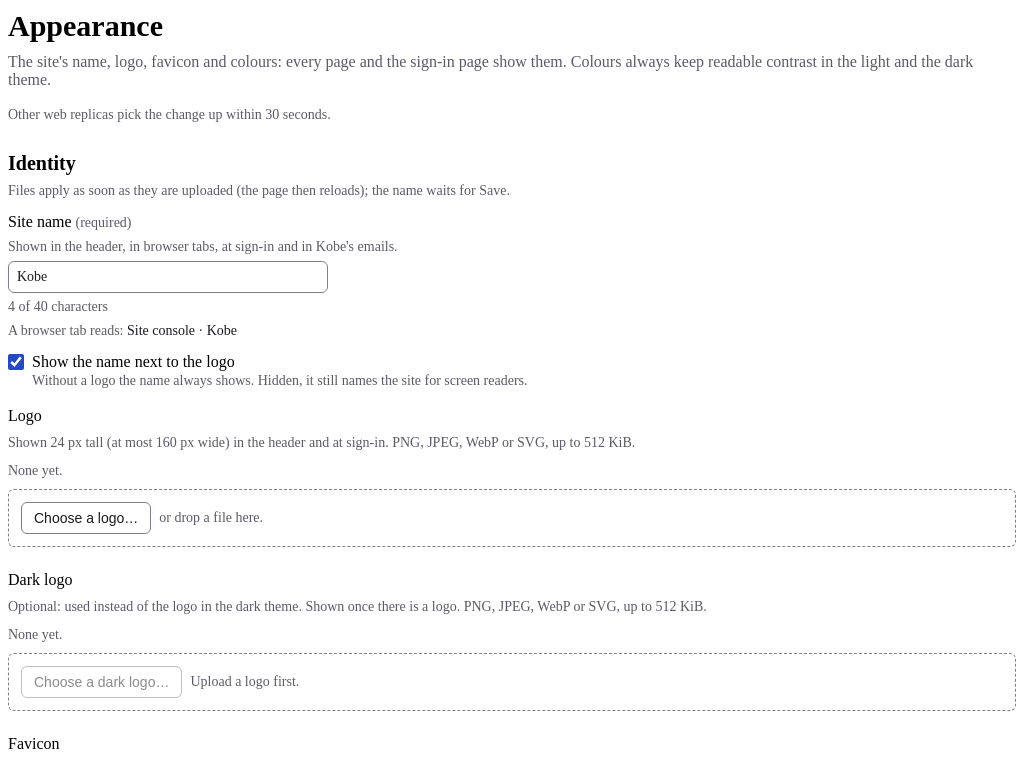
Test: site Appearance page (KOBE-501) › previews the draft name before it is saved
Replace the text in the field labelled "Site name(required)" with "Acme" at (168, 276), box [8,260,328,292]
(page scrolled)
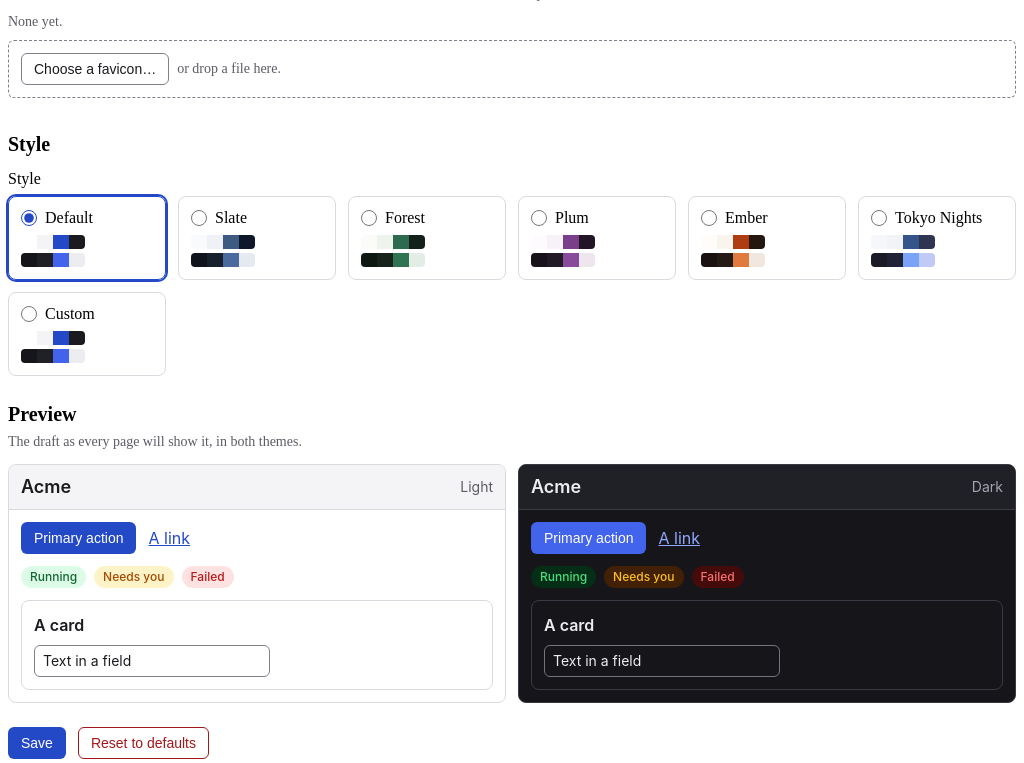
Result: the text "Acme" is shown at [531,476,581,496]
